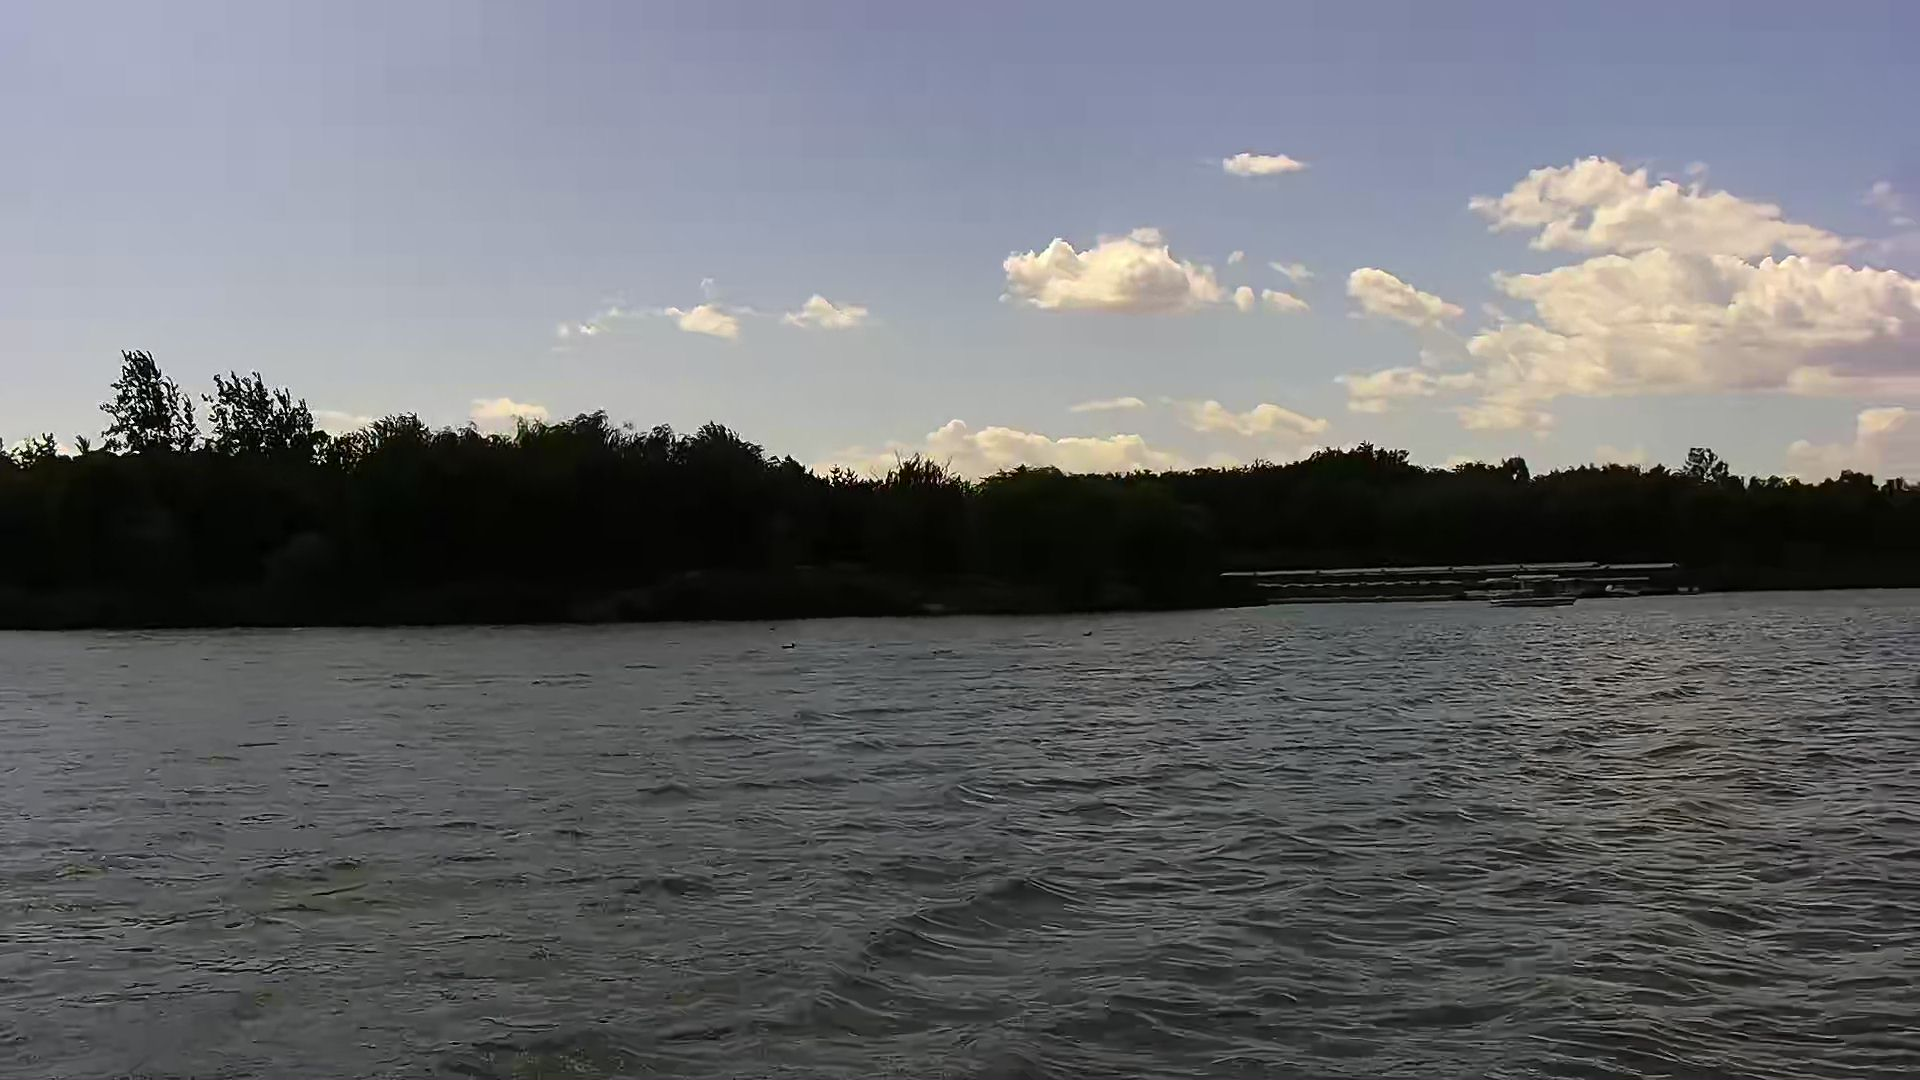boat: (1484, 585, 1582, 616)
harbor: (1220, 562, 1692, 603)
